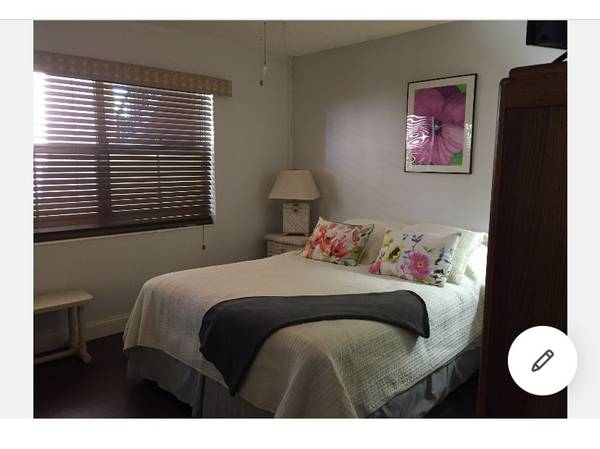bed: (126, 236, 488, 430)
frame: (404, 74, 474, 174)
lamp: (266, 170, 320, 236)
